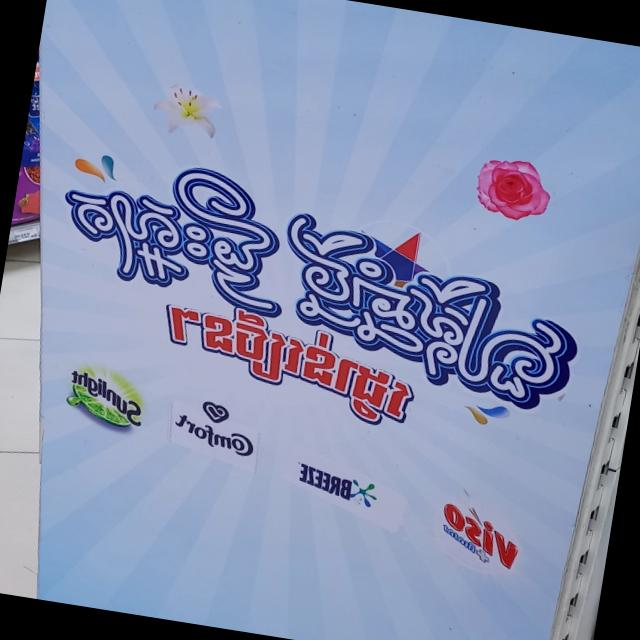Yolov11_80vkh: (58, 160, 596, 426), (154, 300, 430, 438)
